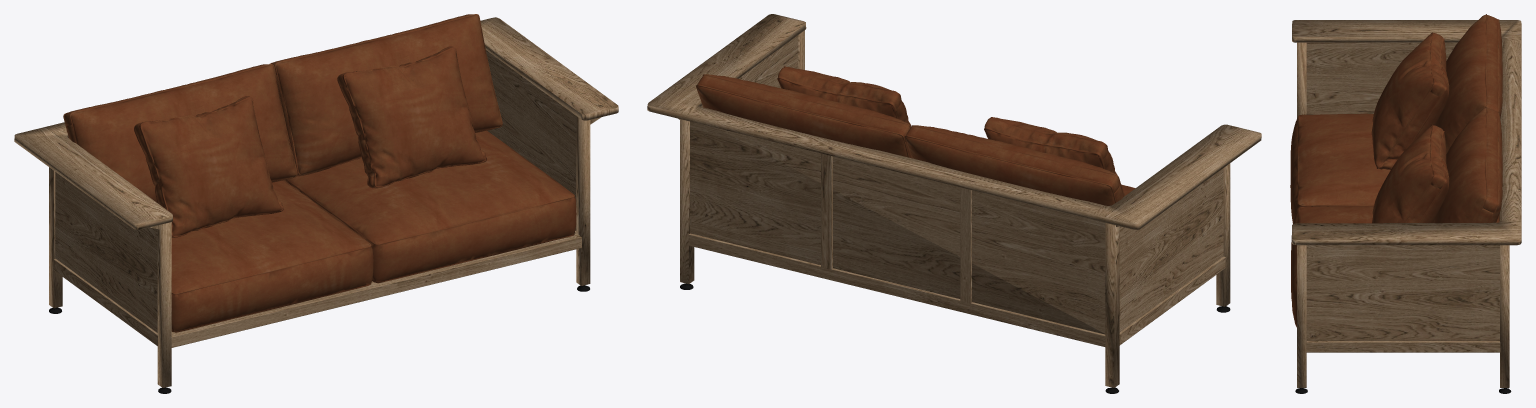
File: sofa-42.glb
3 views of the same model, side by side, from view 1: azimuth 30°, elevation 25°; view 2: azimuth 150°, elevation 25°; view 3: azimuth 270°, elevation 25° (orthographic). The views are drawn at different scales.
Visible parts, largest first — view 1: Object004_Material #13_0, Object006_Material #13_0, Object003_19 - Default_0, 435_Material #13_0, Box019, 436_Material #13_0, Box020; view 2: Object003_19 - Default_0, Box020, Box019, 436_Material #13_0, 435_Material #13_0, Object006_Material #13_0; view 3: Object003_19 - Default_0, Box020, Object006_Material #13_0, Object004_Material #13_0, Box019, 435_Material #13_0, 436_Material #13_0.
Part boxes in pixels (box(x1,y1,x2,y2)): Object004_Material #13_0: box(171, 130, 576, 332); Object006_Material #13_0: box(134, 46, 486, 237); Object003_19 - Default_0: box(55, 50, 576, 332); 435_Material #13_0: box(270, 14, 502, 176); Box019: box(49, 116, 590, 387); 436_Material #13_0: box(63, 64, 297, 202); Box020: box(14, 17, 618, 229); Object003_19 - Default_0: box(690, 35, 1223, 334); Box020: box(647, 14, 1261, 229); Box019: box(680, 30, 1230, 387); 436_Material #13_0: box(904, 125, 1124, 205); 435_Material #13_0: box(696, 74, 911, 158); Object006_Material #13_0: box(777, 66, 1125, 195); Object003_19 - Default_0: box(1306, 42, 1499, 340); Box020: box(1292, 20, 1521, 245); Object006_Material #13_0: box(1371, 32, 1449, 223); Object004_Material #13_0: box(1290, 113, 1499, 327); Box019: box(1297, 42, 1509, 387); 435_Material #13_0: box(1432, 107, 1502, 222); 436_Material #13_0: box(1435, 14, 1502, 153).
Size of the model in its own units: 2.01 by 0.8145 by 0.8936.
3 materials, 2 textured.
